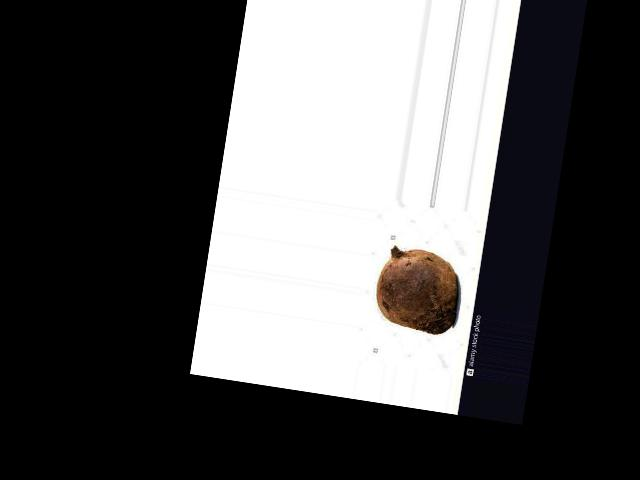beet: (371, 243, 464, 336)
